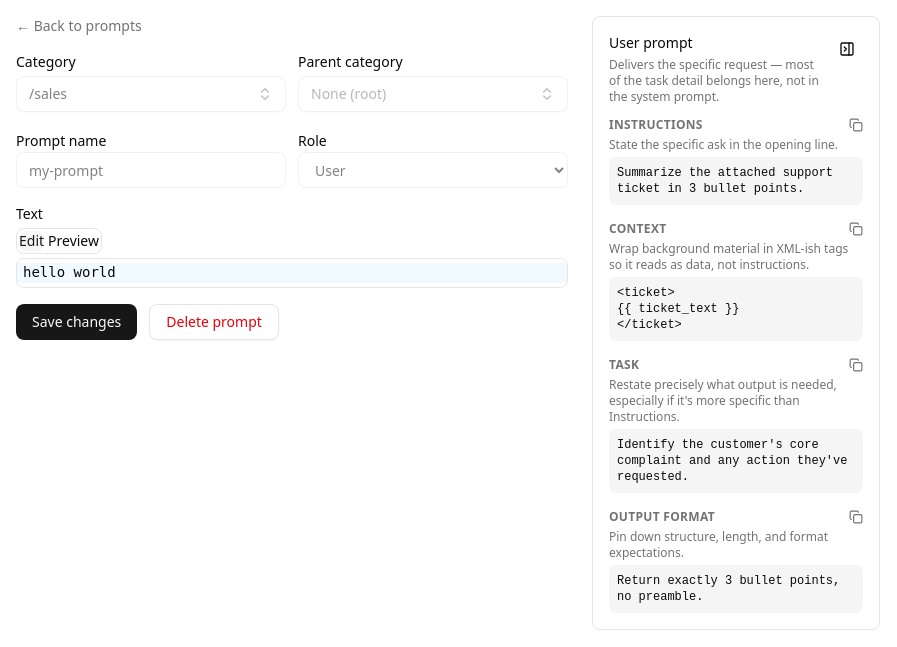
PromptForm (update mode) › shows a conflict banner on 409 and reloads the latest version on demand
This screenshot has width=897, height=647.
In the field named "Text": {"x": 292, "y": 273} [17,259,567,287], type " more"
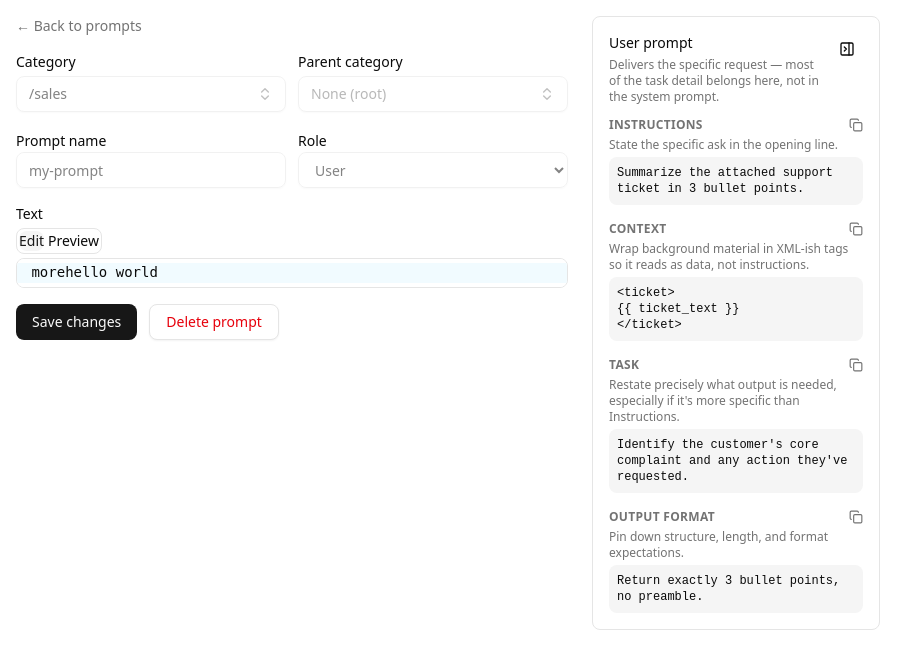
Click the button "Save changes": {"x": 77, "y": 322} [16,304,137,340]
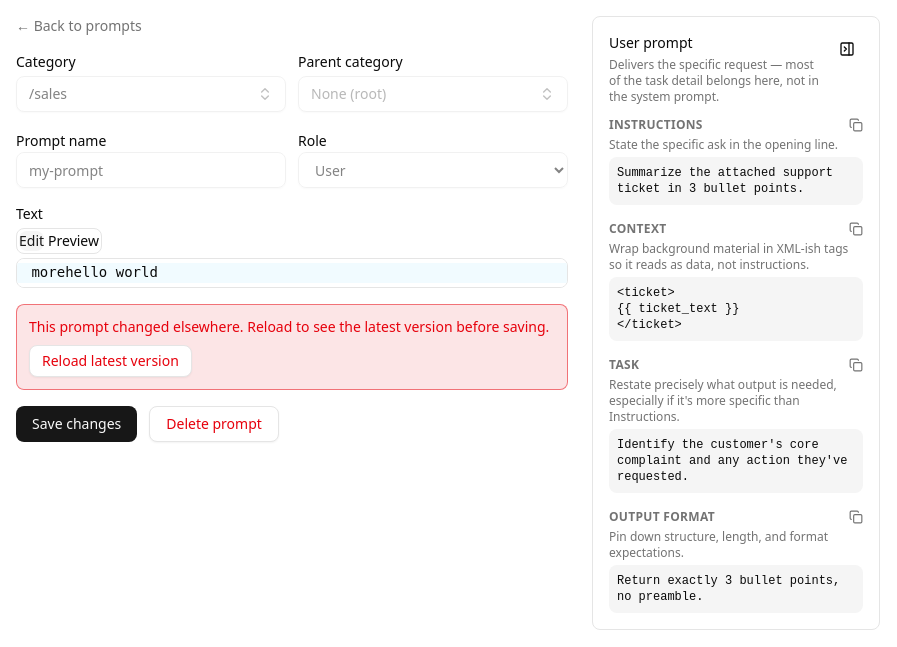
Expected: the message shows "changed elsewhere", [29,317,549,336]
Click the button "Reload latest version": {"x": 110, "y": 361} [29,345,192,377]
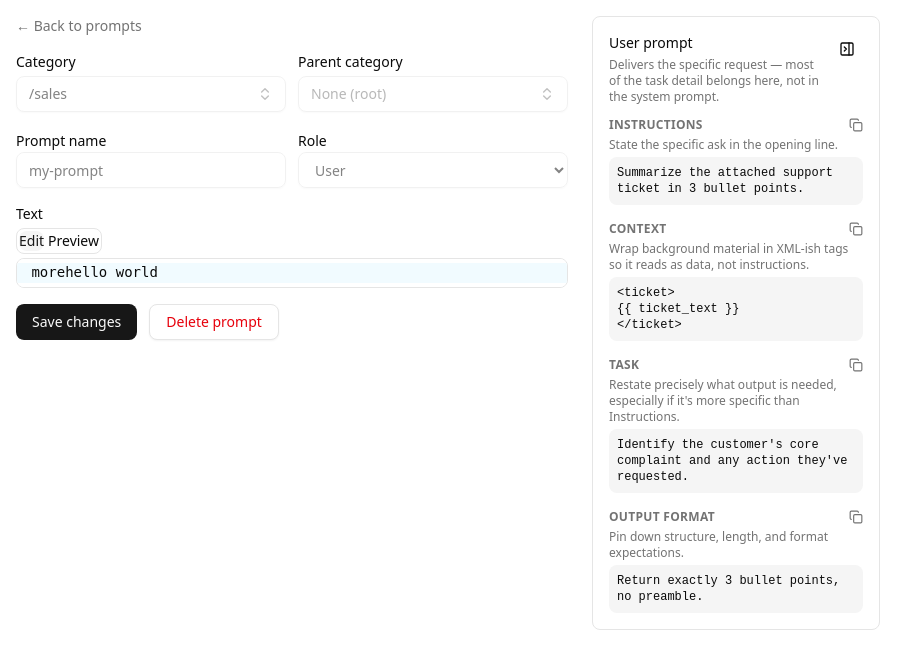
Expected: the message is gone
